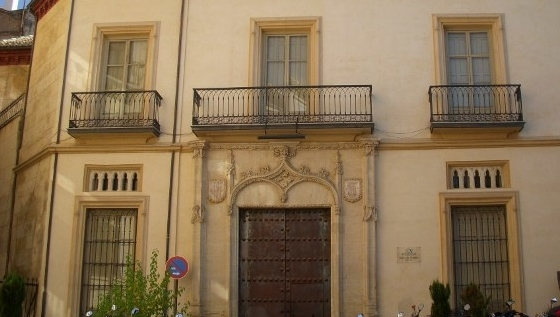arco-conopial: (226, 159, 342, 205)
